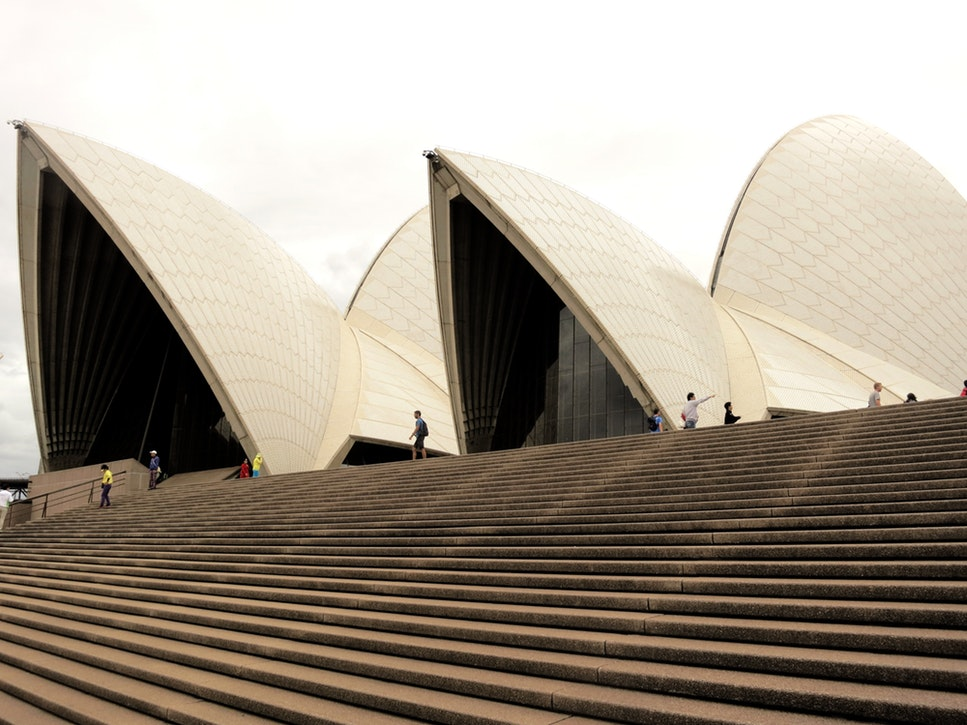opera house: (7, 100, 967, 426)
